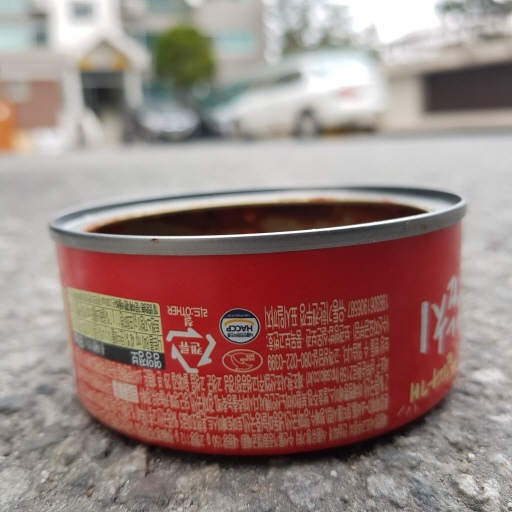Metal_1: (43, 182, 468, 457)
